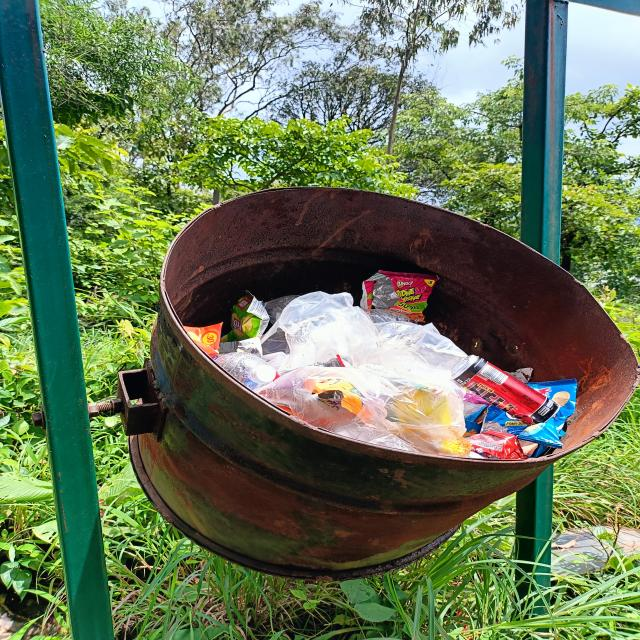garbage: (184, 270, 620, 485)
